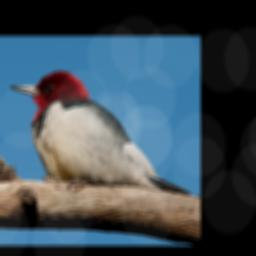Woodpecker: (10, 71, 193, 195)
